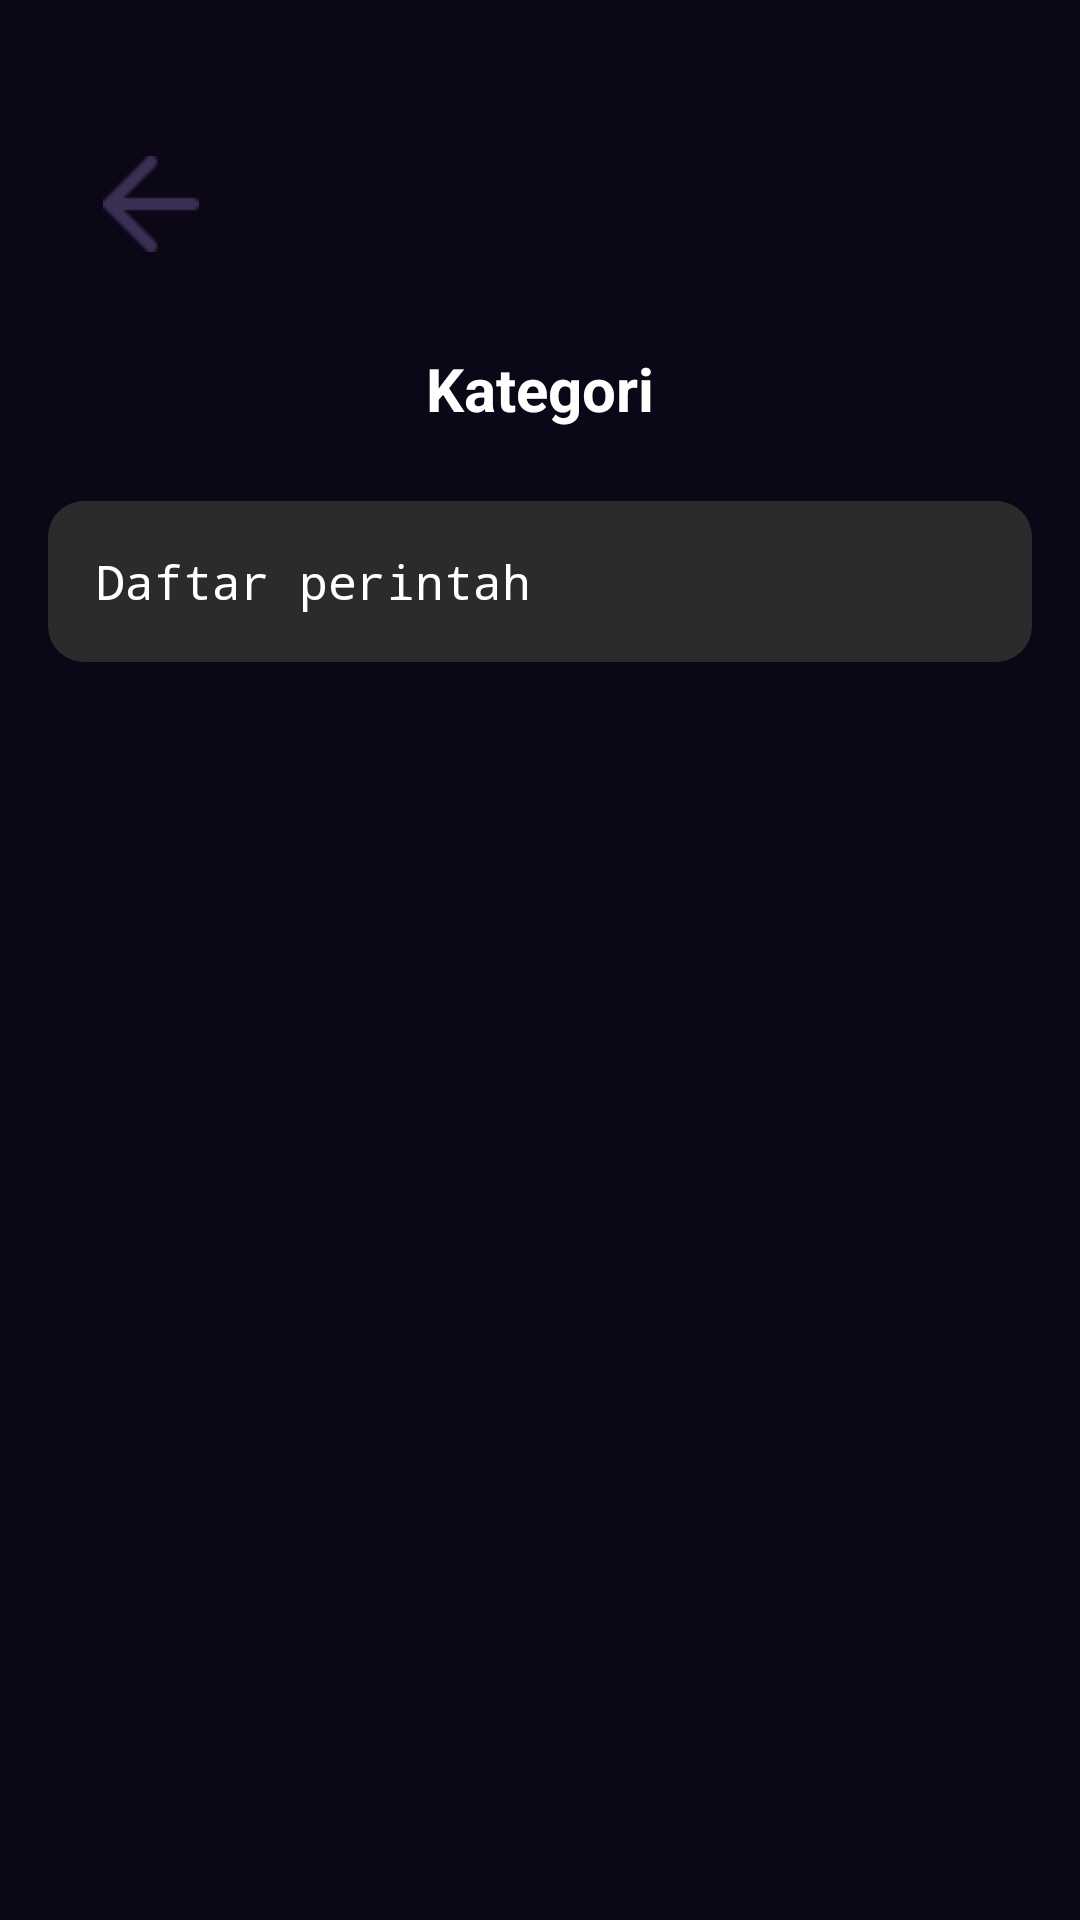

Icon bounding boxes for this 1080*1920 phone screenshot, format [left=x1, top=y1, right=x2, bottom=y2]:
back: [left=103, top=156, right=199, bottom=252]
